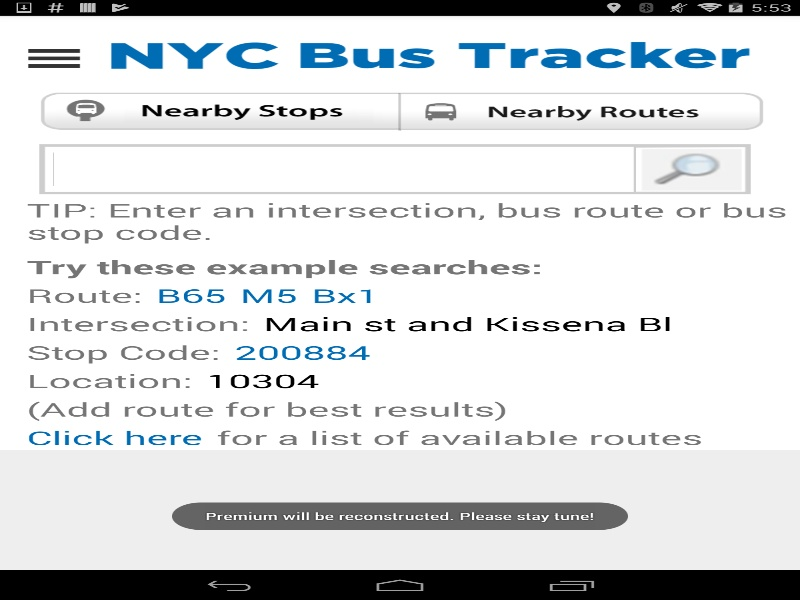Button: (26, 89, 400, 133), (400, 89, 773, 133), (0, 18, 74, 53)
Input: (39, 144, 639, 194)
